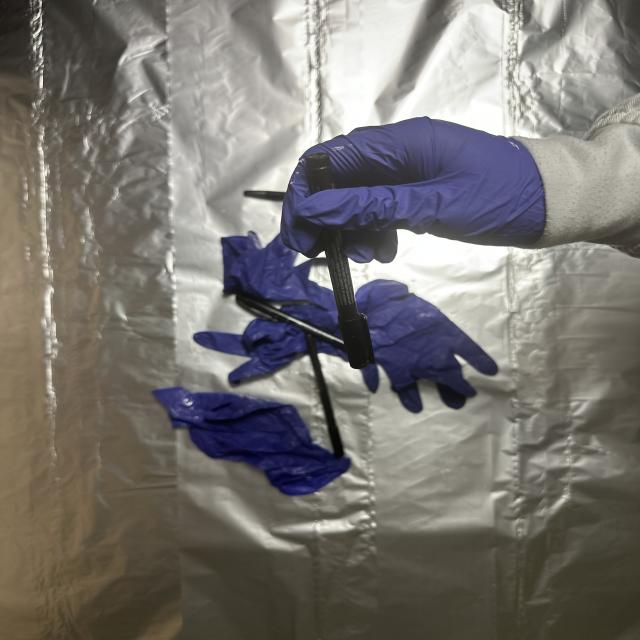gloves_contaminated: (282, 117, 546, 257)
